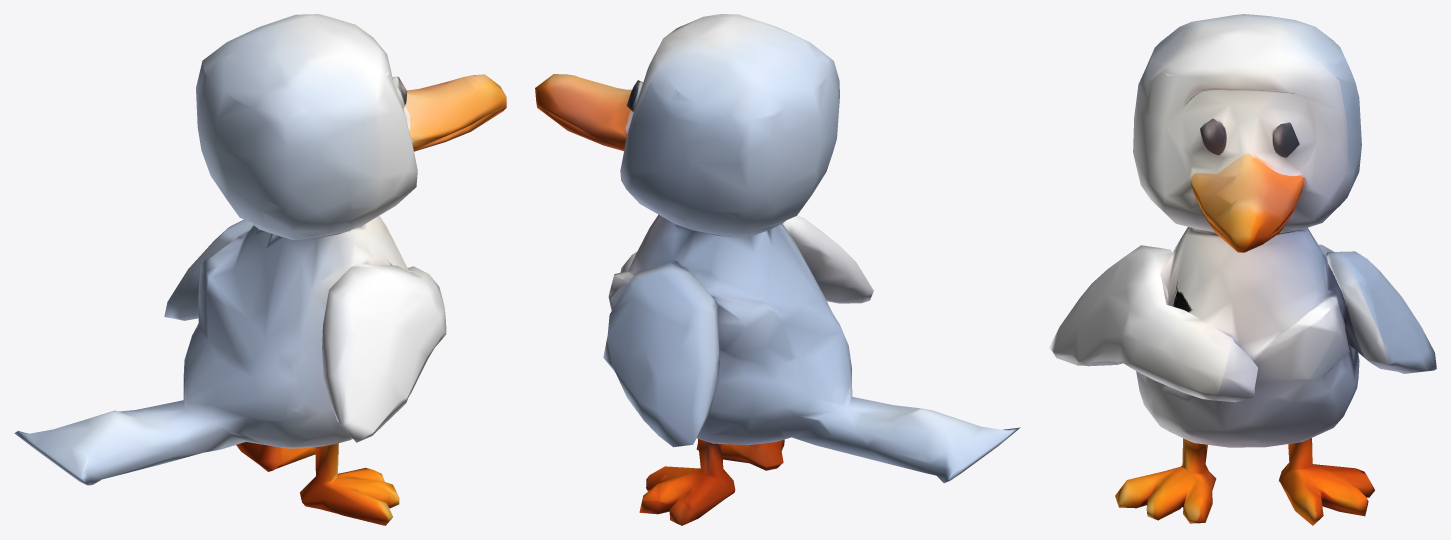
Rendered from gull.glb.
3 views of the same model, side by side, from view 1: azimuth 30°, elevation 25°; view 2: azimuth 150°, elevation 25°; view 3: azimuth 270°, elevation 25° (orthographic). The views are drawn at different scales.
Parts seen in each view (by area): view 1: tripo_node_fd35b180-68cb-446c-832b-20fe199ba484; view 2: tripo_node_fd35b180-68cb-446c-832b-20fe199ba484; view 3: tripo_node_fd35b180-68cb-446c-832b-20fe199ba484.
Part boxes in pixels (bbox=[...]): tripo_node_fd35b180-68cb-446c-832b-20fe199ba484: bbox=[14, 14, 506, 525]; tripo_node_fd35b180-68cb-446c-832b-20fe199ba484: bbox=[535, 14, 1020, 525]; tripo_node_fd35b180-68cb-446c-832b-20fe199ba484: bbox=[1049, 14, 1436, 525].
Size of the model in its own units: 1 by 0.9597 by 0.7094.
Materials: 1 (1 with a texture image).
